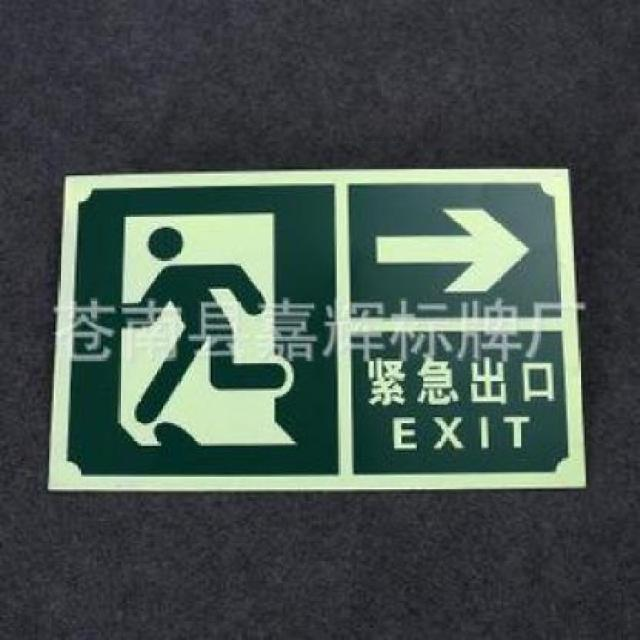exit_sign: (55, 178, 581, 486)
